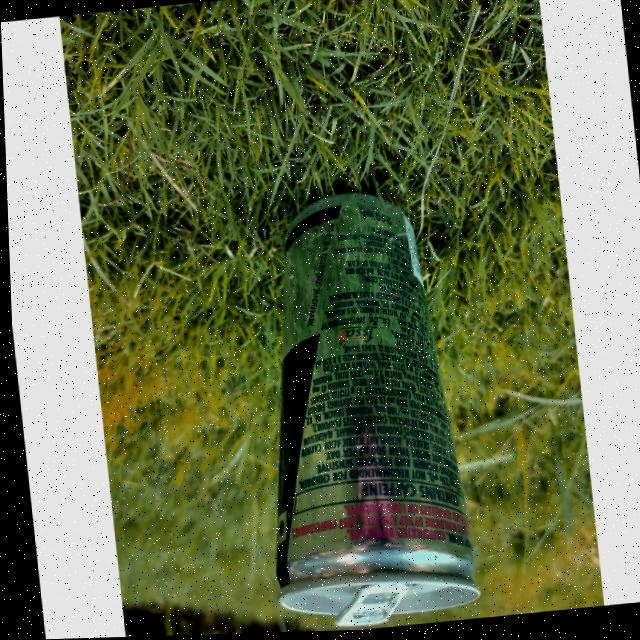Redbull: (236, 179, 481, 626)
